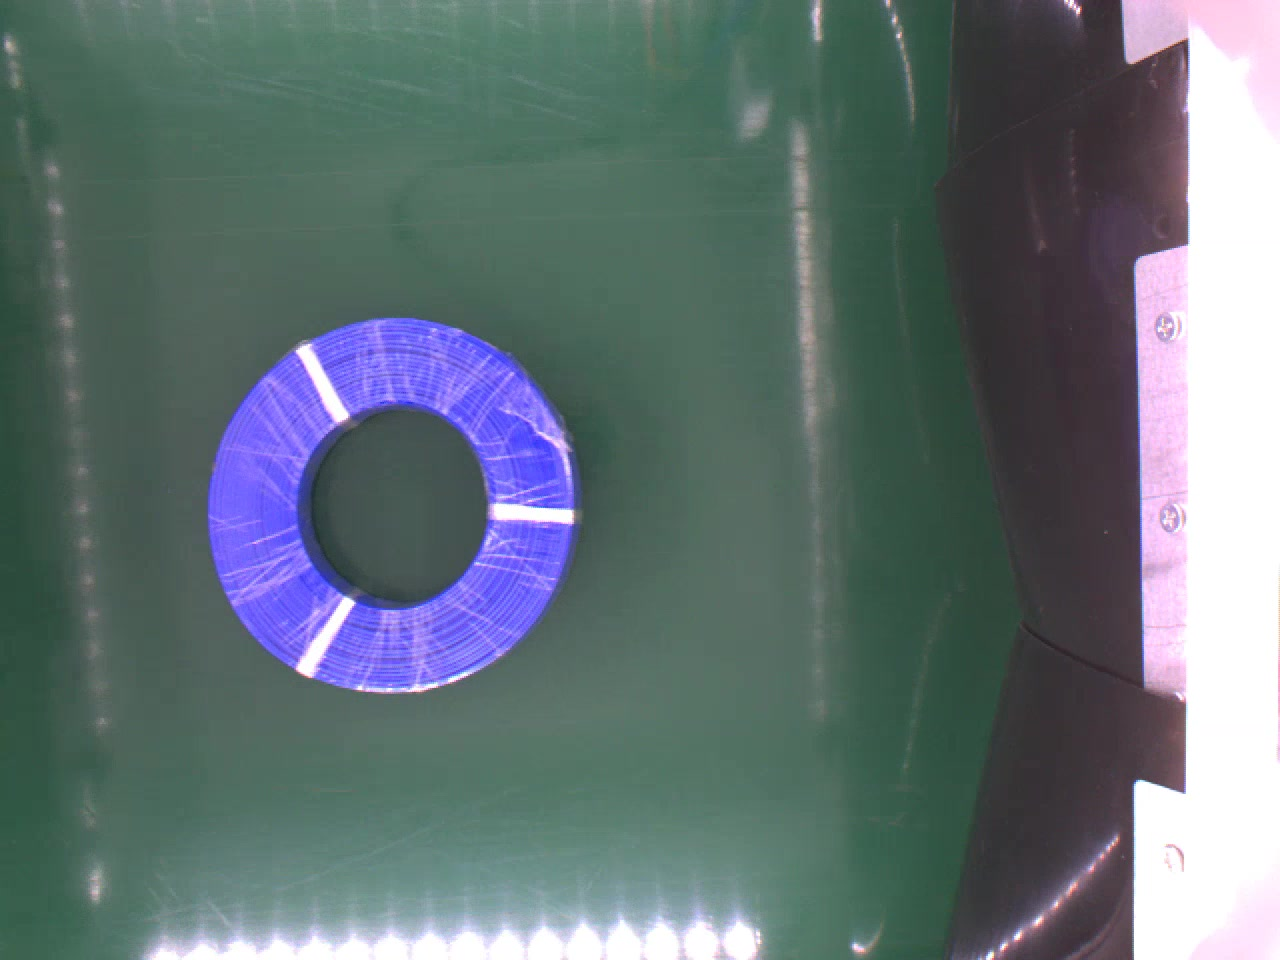blue: (203, 313, 587, 697)
